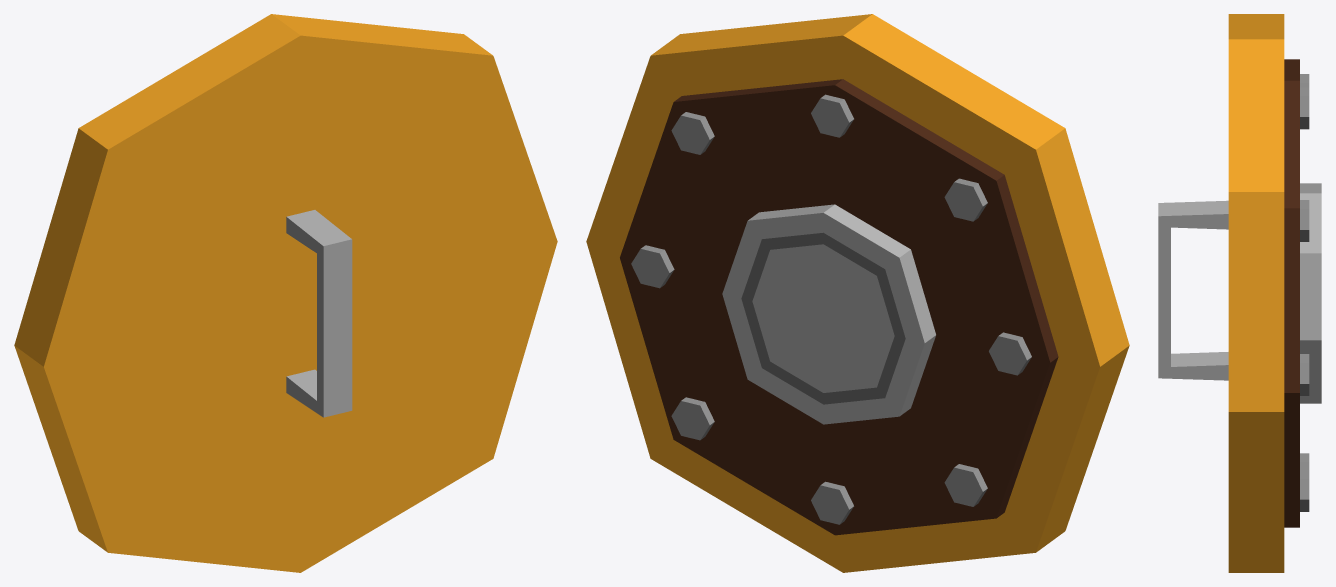
File: Shield 01.FBX
The picture shows the model from 3 angles, left to right: view 1: azimuth 30°, elevation 25°; view 2: azimuth 150°, elevation 25°; view 3: azimuth 270°, elevation 25°; orthographic projection. The views are drawn at different scales.
Parts seen in each view (by area): view 1: Shield 01; view 2: Shield 01; view 3: Shield 01.
Boxes of the visible parts, x1,y1,x2,y2 form: Shield 01: (14, 14, 557, 572); Shield 01: (586, 14, 1129, 572); Shield 01: (1158, 14, 1321, 572).
Size of the model in its own units: 66.36 by 19.3 by 66.31.
